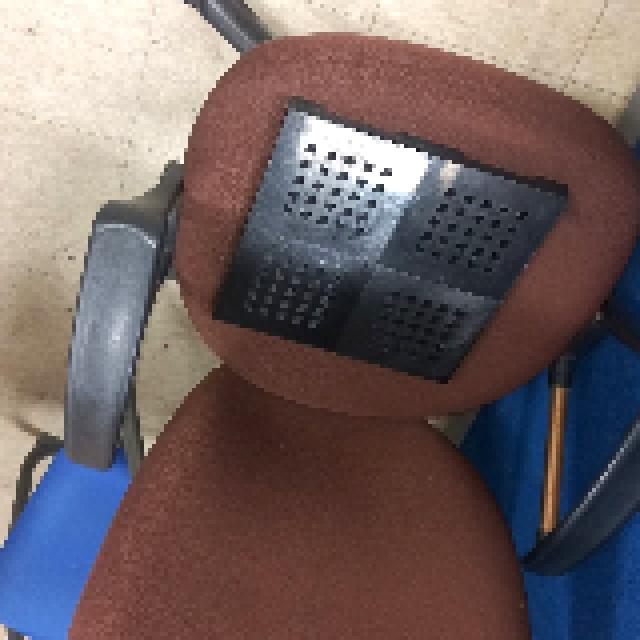pallet: (198, 94, 582, 394)
